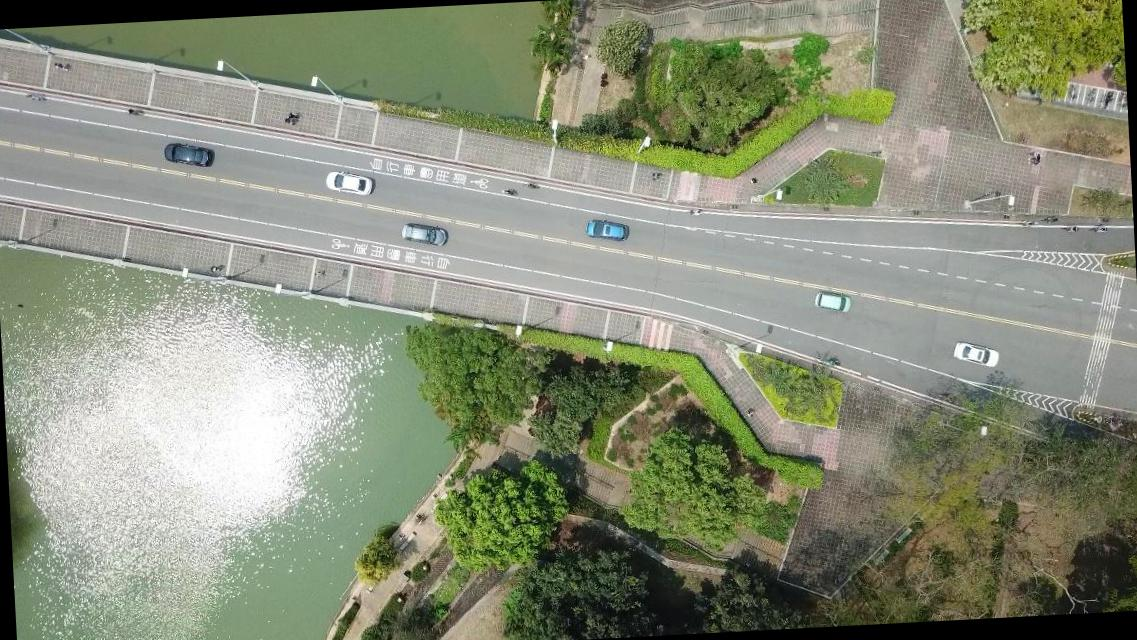vehicle: (162, 140, 212, 169), (952, 338, 1000, 368), (325, 170, 372, 198), (401, 222, 448, 248), (585, 218, 628, 243), (814, 289, 850, 314)
